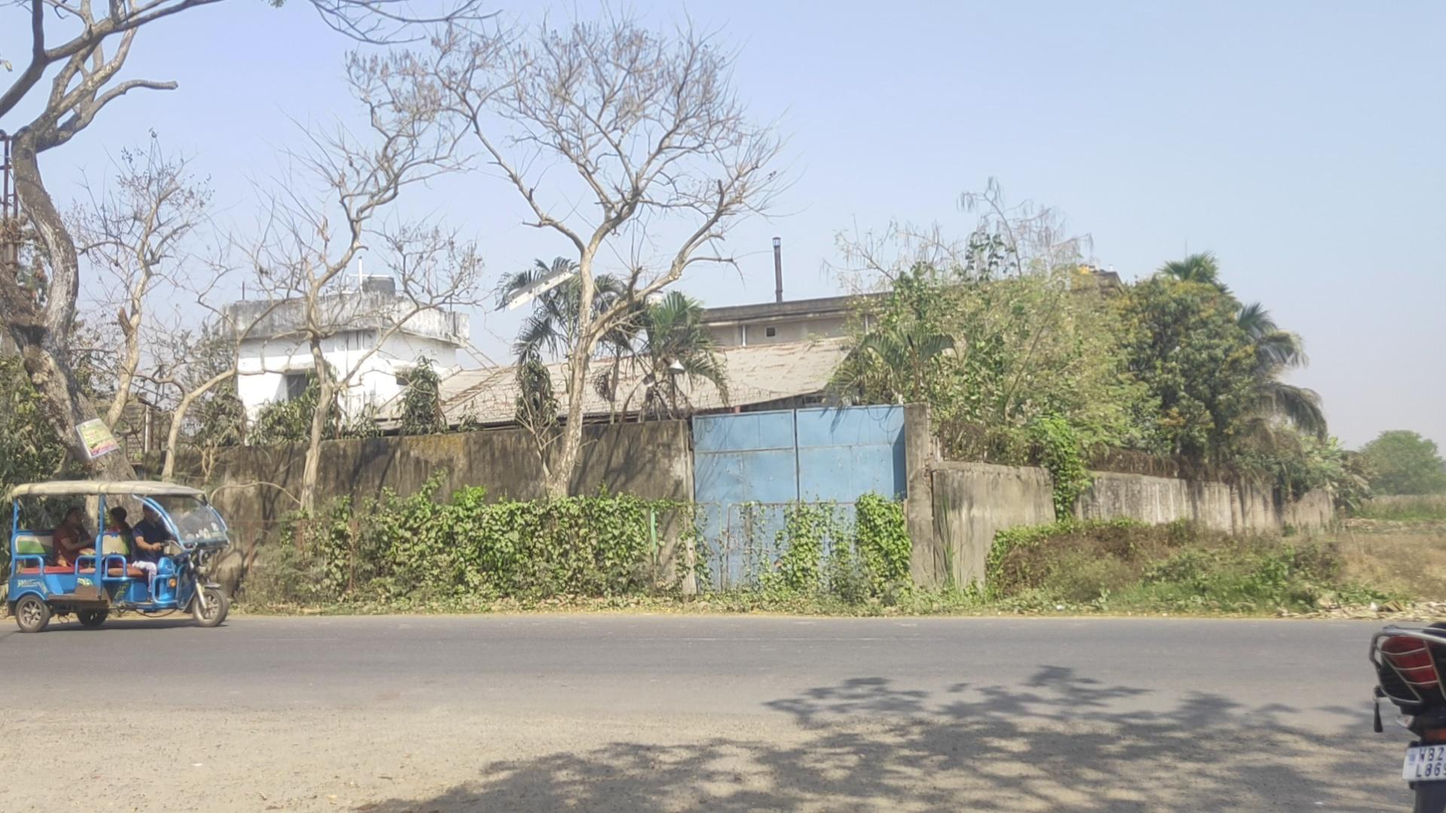Auto: (7, 481, 231, 633)
